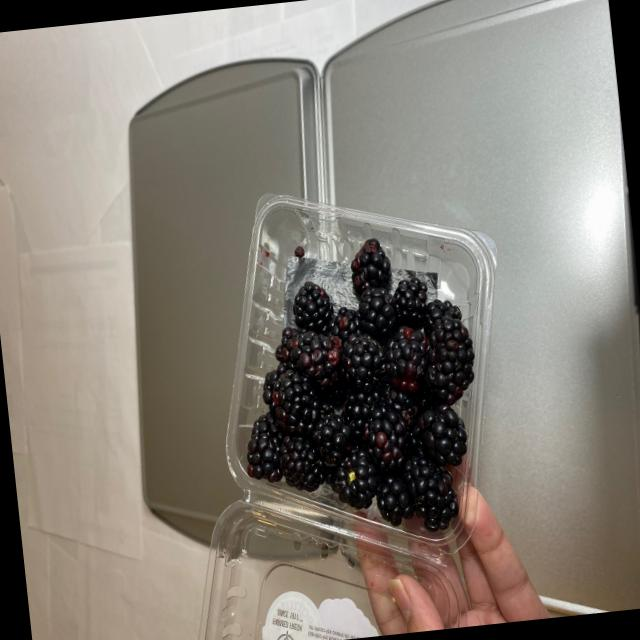blackberries: (207, 227, 493, 504)
